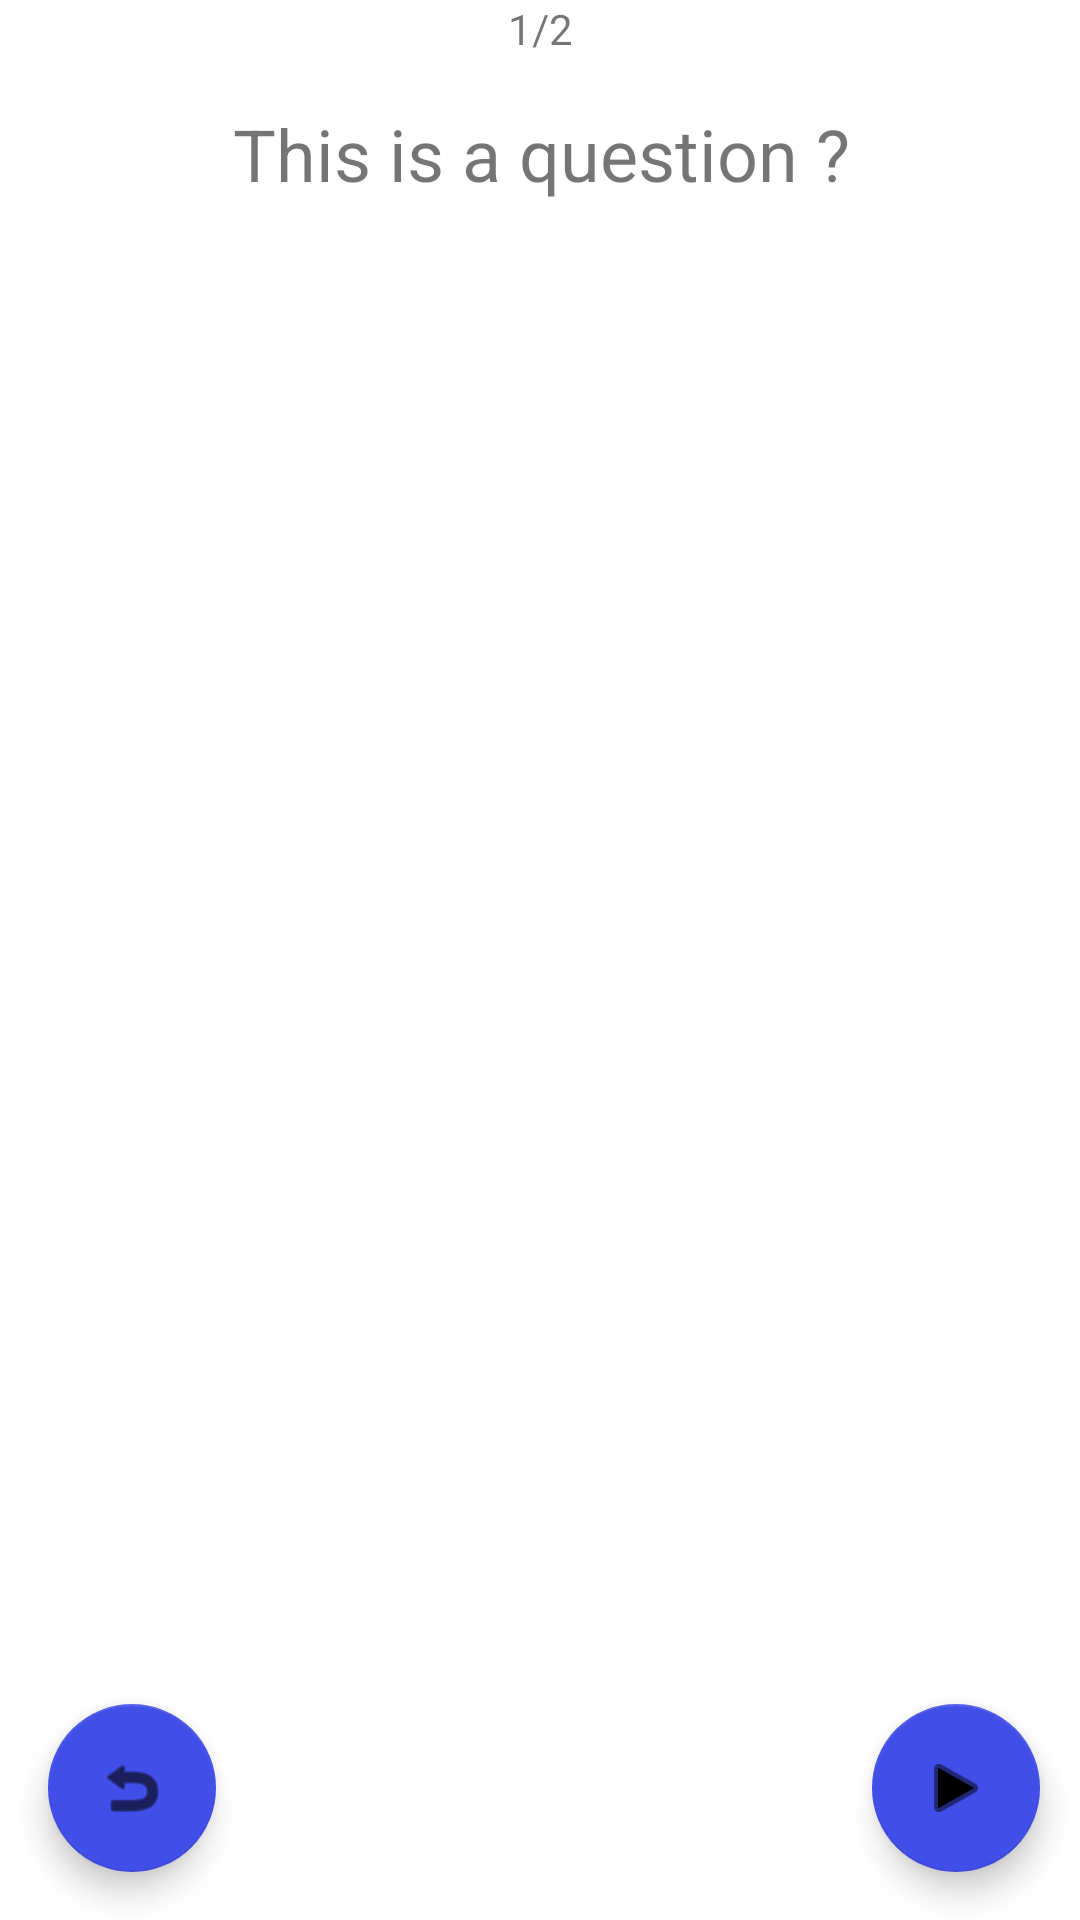

Icon click points for this 1080*1920 phone screenshot, format (x,y):
play: (956,1788)
revert: (132,1788)
